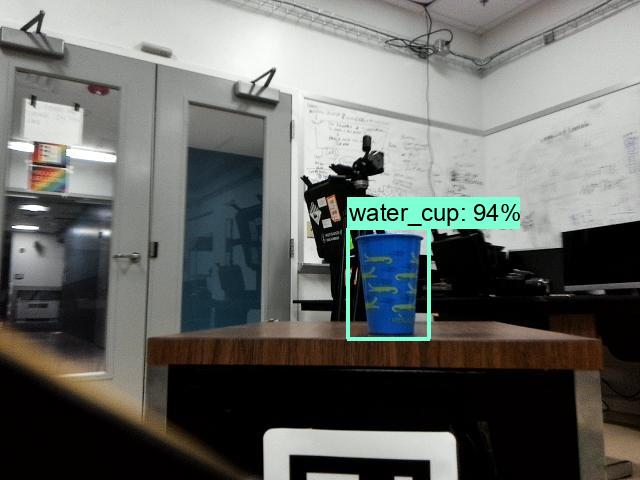water_cup: (345, 229, 433, 339)
